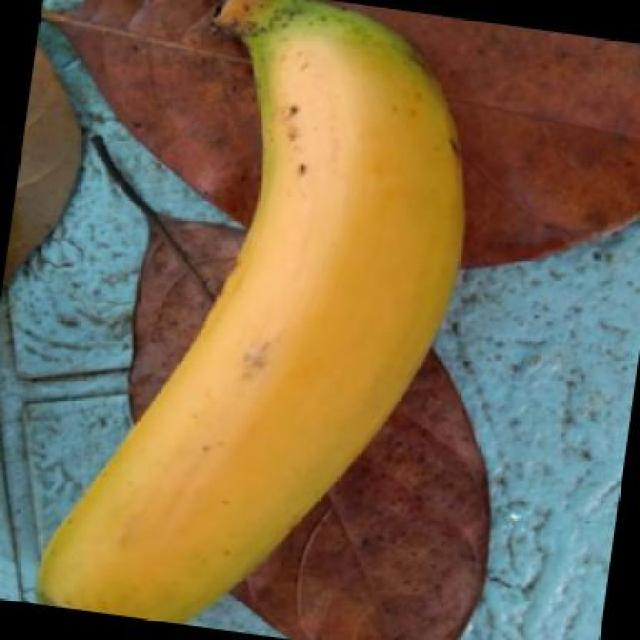Ripe: (19, 0, 472, 637)
